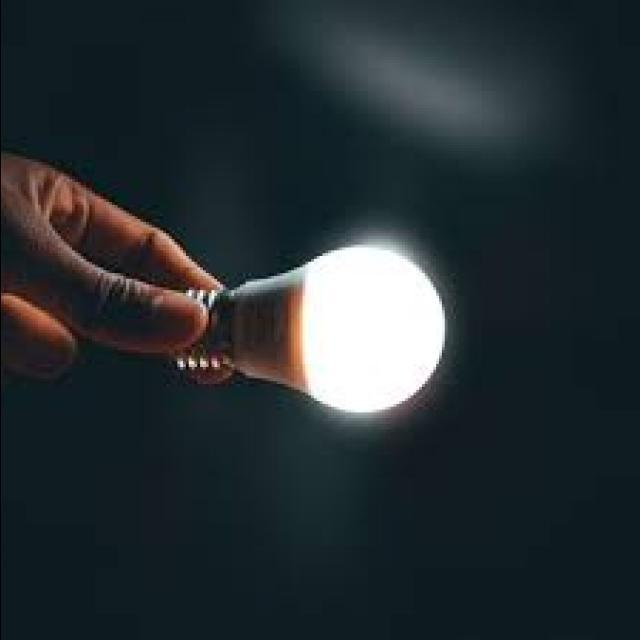light_bulb: (149, 231, 459, 425)
